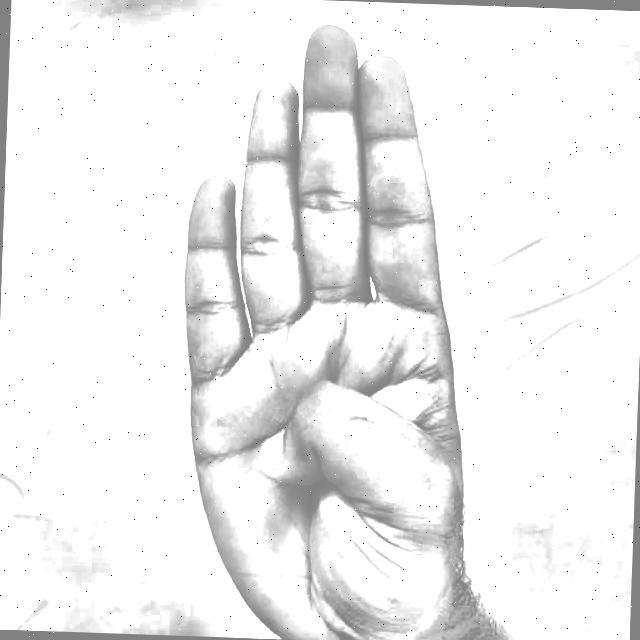Ba: (131, 6, 526, 640)
